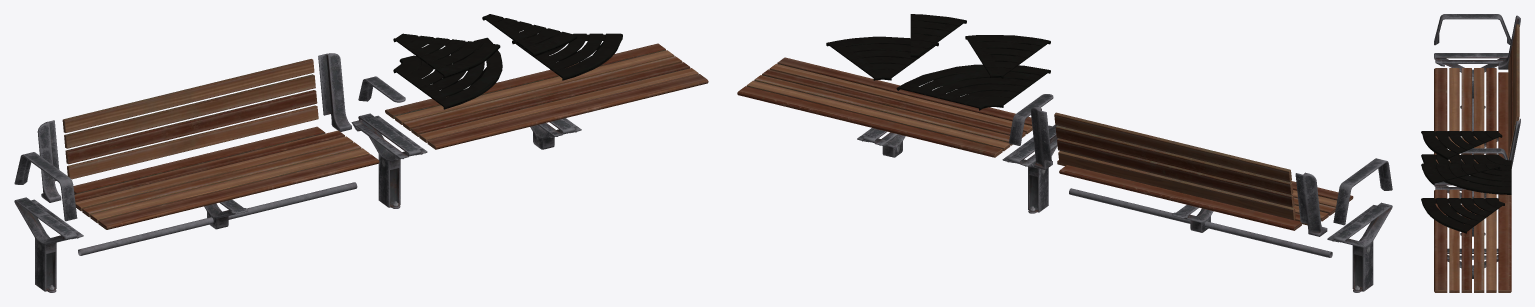
Rendered from modular_street_seating.glb.
3 renders of one model, left to right at view 1: azimuth 30°, elevation 25°; view 2: azimuth 150°, elevation 25°; view 3: azimuth 270°, elevation 25°, orthographic. The views are drawn at different scales.
Visible parts, largest first — view 1: seat, seat_back, connector_60, legs_double, crossbar; view 2: seat, seat_back, connector_60, crossbar, legs_double; view 3: seat, connector_60, legs_double, crossbar, seat_back.
Part boxes in pixels (x1,y1,x2,y2): seat: [73, 43, 708, 229]; seat_back: [62, 59, 318, 179]; connector_60: [393, 14, 622, 109]; legs_double: [14, 113, 581, 292]; crossbar: [14, 53, 405, 255]; seat: [737, 57, 1353, 230]; seat_back: [1054, 112, 1295, 220]; connector_60: [826, 14, 1050, 110]; crossbar: [1009, 94, 1392, 257]; legs_double: [857, 125, 1392, 292]; seat: [1434, 68, 1511, 292]; connector_60: [1421, 131, 1511, 233]; legs_double: [1434, 53, 1508, 278]; crossbar: [1434, 14, 1520, 196]; seat_back: [1508, 24, 1519, 157].
Bounding box in the file's own units: 4.34 × 0.9499 × 0.7704.
4 materials, 4 textured.
